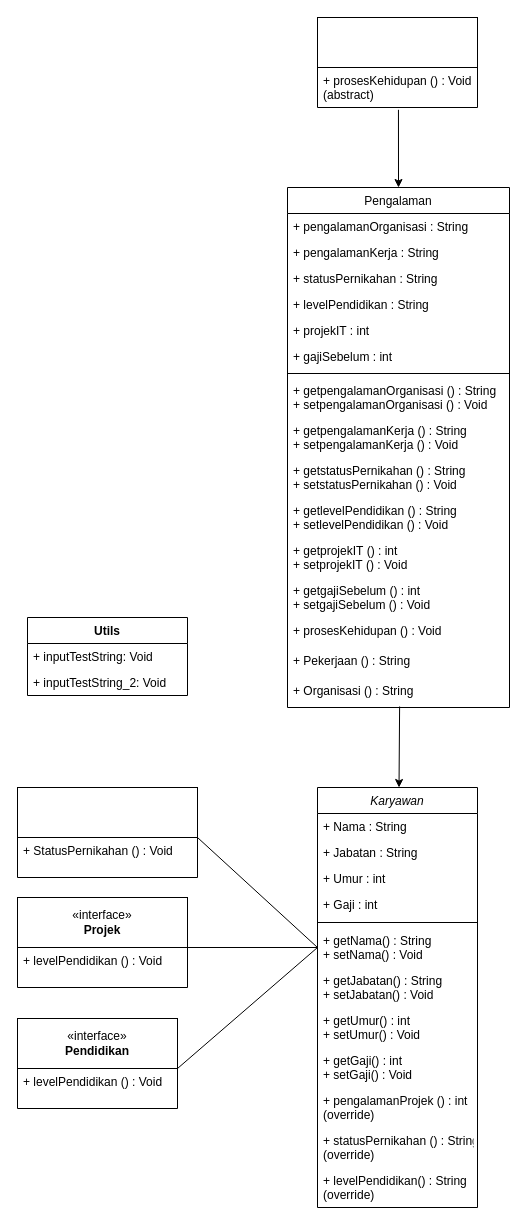
The diagram is 527 pixels wide and 1228 high, and some of its shapes have lost their labels. The centre of each missing label's shape, as x and y in pixels:
«abstract» Kehidupan: point (397, 42)
«interface» Keluarga: point (107, 812)
